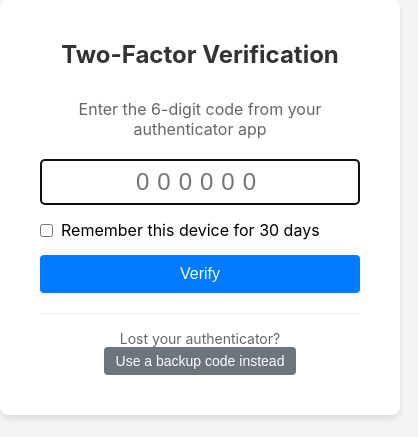
Scenario: MFAVerify › Input validation › should only accept digits in TOTP input
Type "abc123" into the field with placeholder "000000" at (200, 182), box [40,159,360,205]
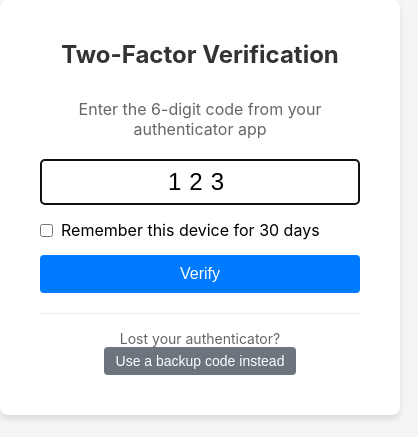
Expected: the field with placeholder "000000" holds "123", [40,159,360,205]
